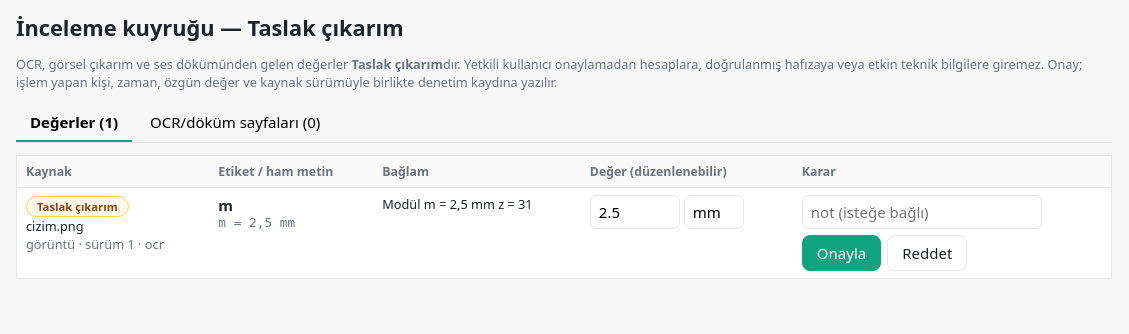
Test: Taslak çıkarım onay akışı › reddetme kararını gönderir
Click the button "Reddet" at coordinates (927, 252), box [887,234,967,270]
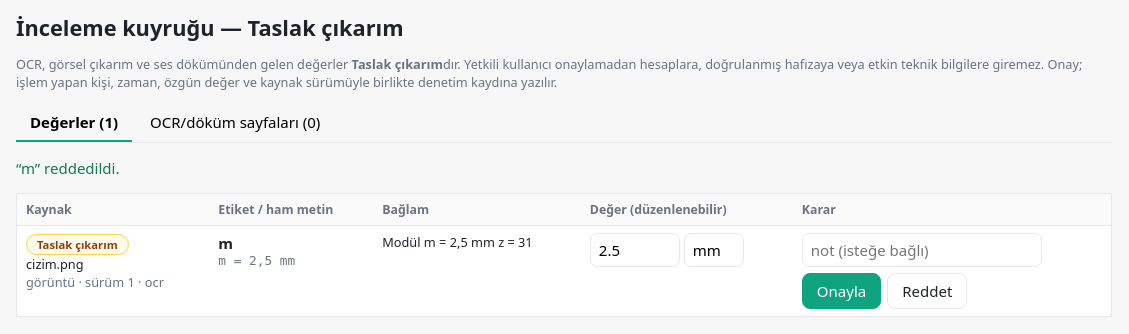
expect the message shows "reddedildi": met, box [16,158,120,178]
